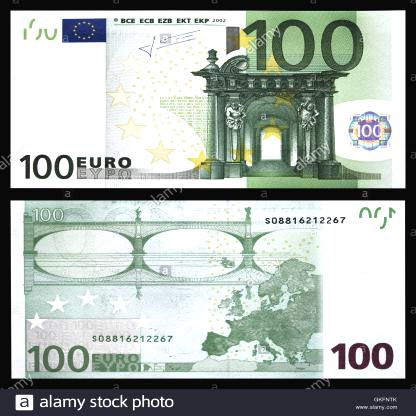euro_banknote: (12, 11, 407, 190), (12, 201, 406, 380)
